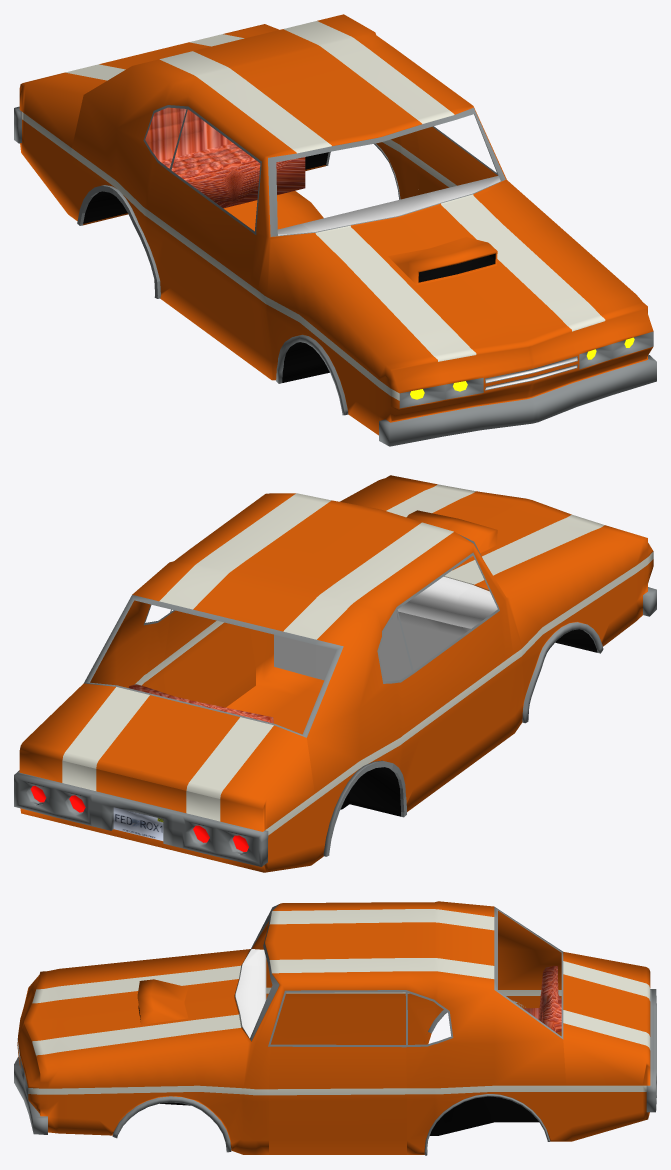
File: carbody.glb
3 renders of one model, top to bottom at view 1: azimuth 30°, elevation 25°; view 2: azimuth 150°, elevation 25°; view 3: azimuth 270°, elevation 25°, orthographic. The views are drawn at different scales.
Visible parts, largest first — view 1: Cube.036, Cube.035, Cube.034; view 2: Cube.036, Cube.034, Cube.035; view 3: Cube.036, Cube.035, Cube.034.
Boxes of the visible parts, x1,y1,x2,y2 form: Cube.036: (14,14,656,446); Cube.035: (417,126,497,195); Cube.034: (65,34,244,80); Cube.036: (14,475,656,872); Cube.034: (62,687,273,798); Cube.035: (163,610,255,707); Cube.036: (14,901,656,1155); Cube.035: (269,1044,406,1154); Cube.034: (563,961,650,1049).
Bounding box in the file's own units: 4.86 × 3.55 × 12.39.
12 materials, 2 textured.
